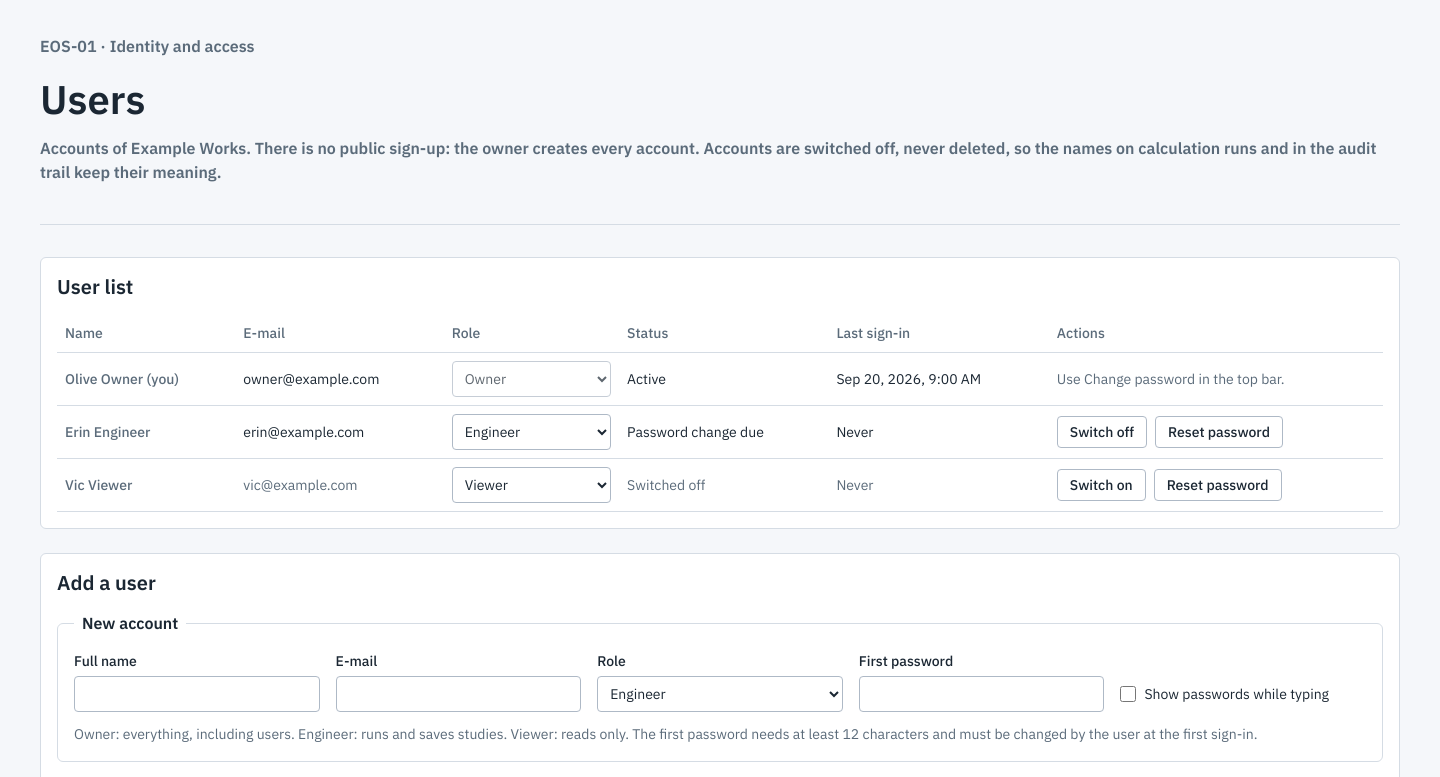
UsersPage › refuses a new user  / new@example.com / a first passphrase before anything is sent
Type "new@example.com" into the field labelled "E-mail".
click(458, 694); type("new@example.com")  # box [336,676,581,712]
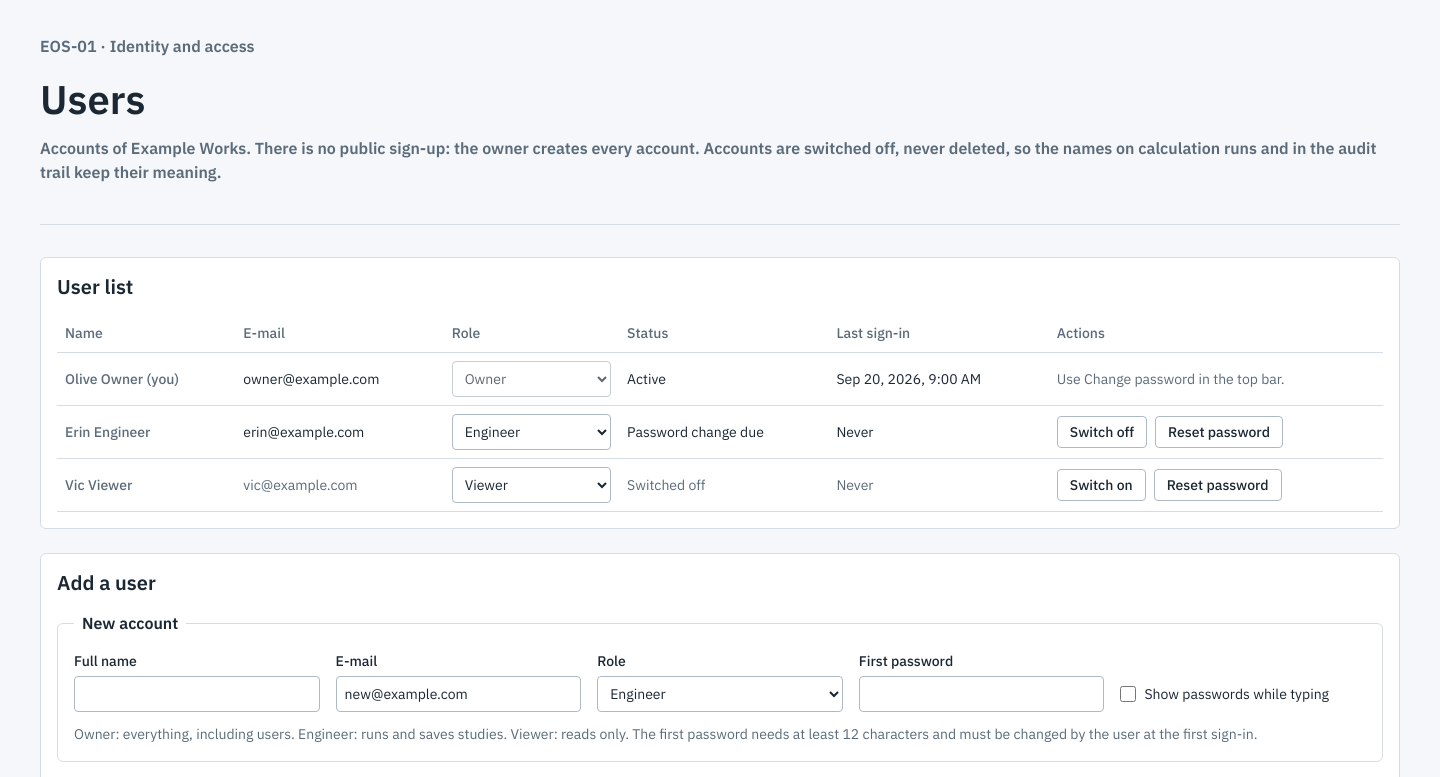
Type "a first passphrase" into the password field labelled "First password".
click(982, 694); type("a first passphrase")  # box [859,676,1104,712]
(page scrolled)
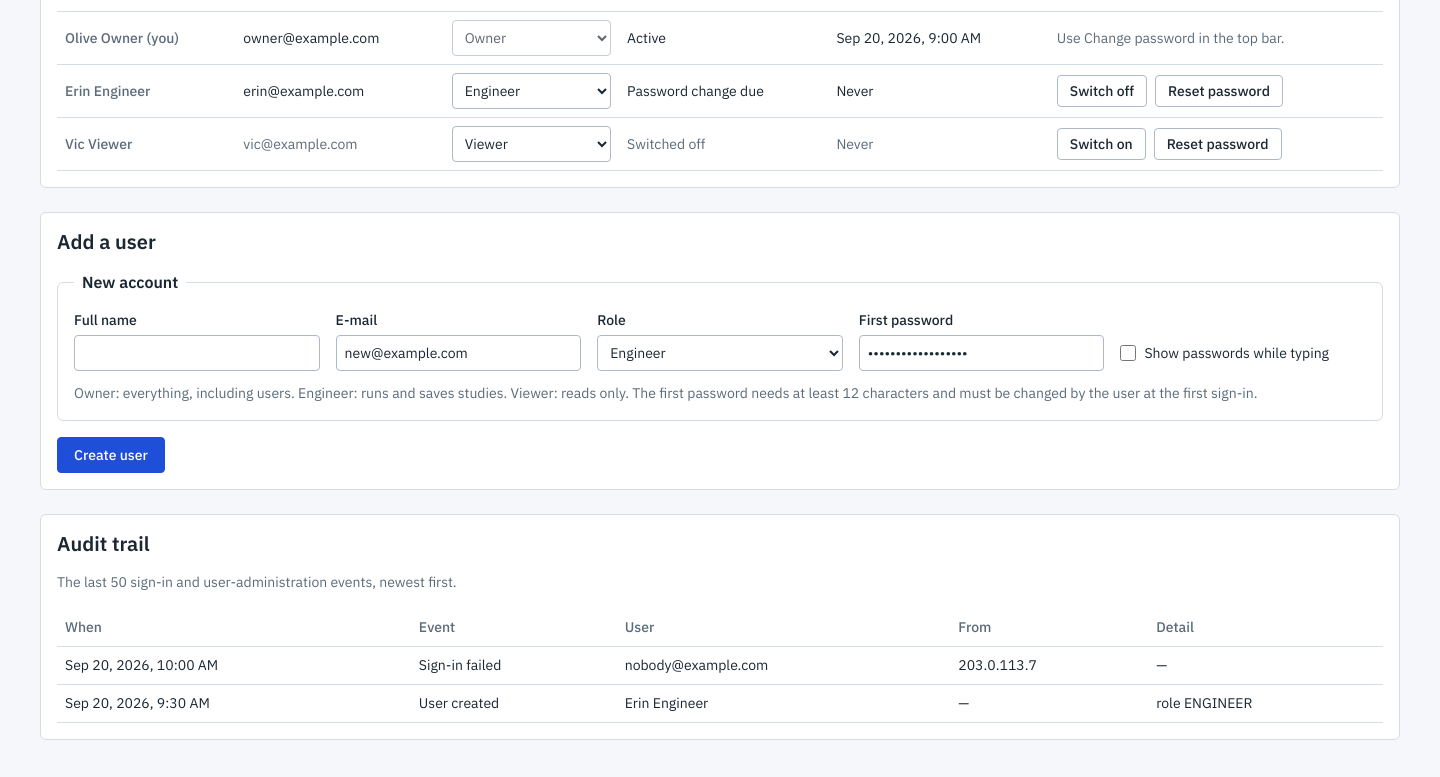
Click the button "Create user".
click(111, 455)  # box [57,437,165,473]
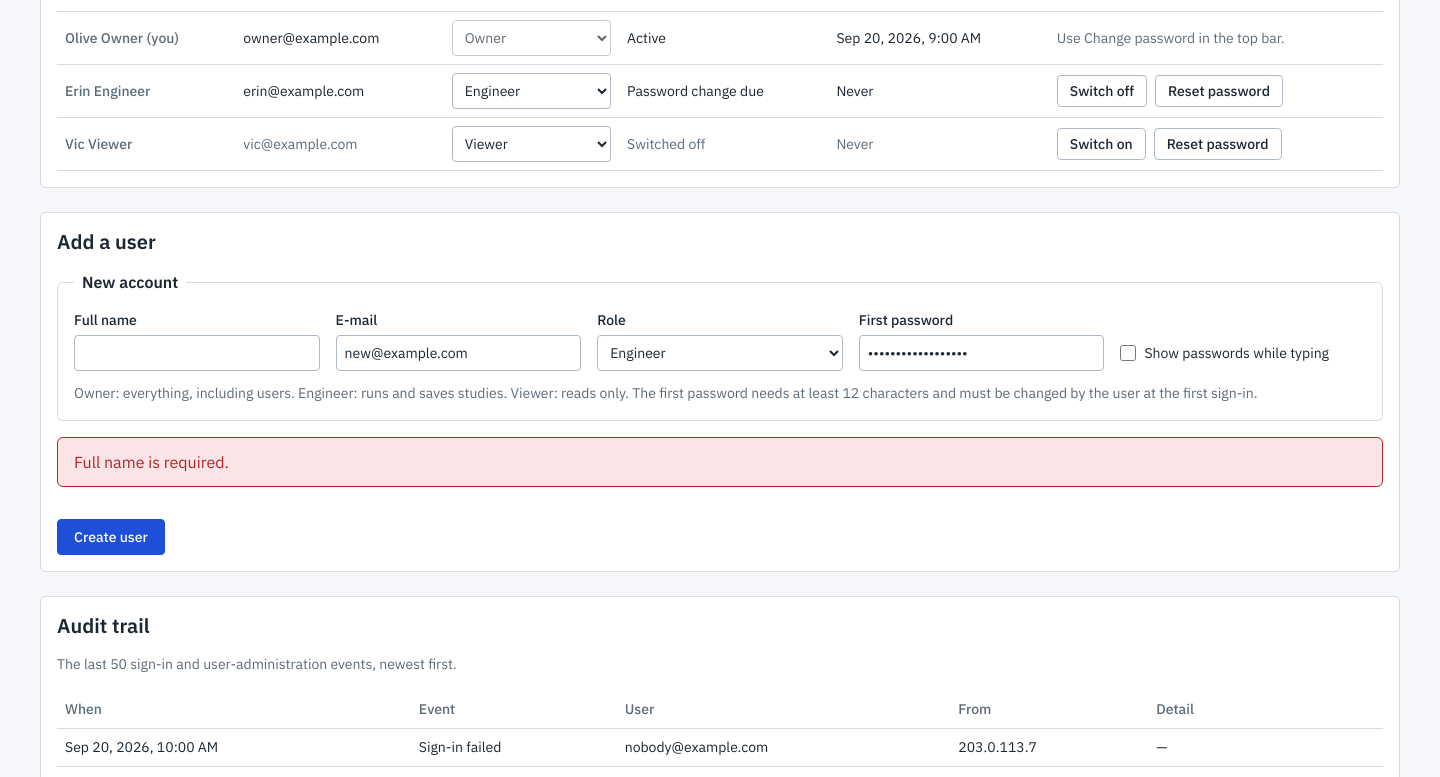
Expected: the message reads "Full name is required.", [74,452,229,472]
